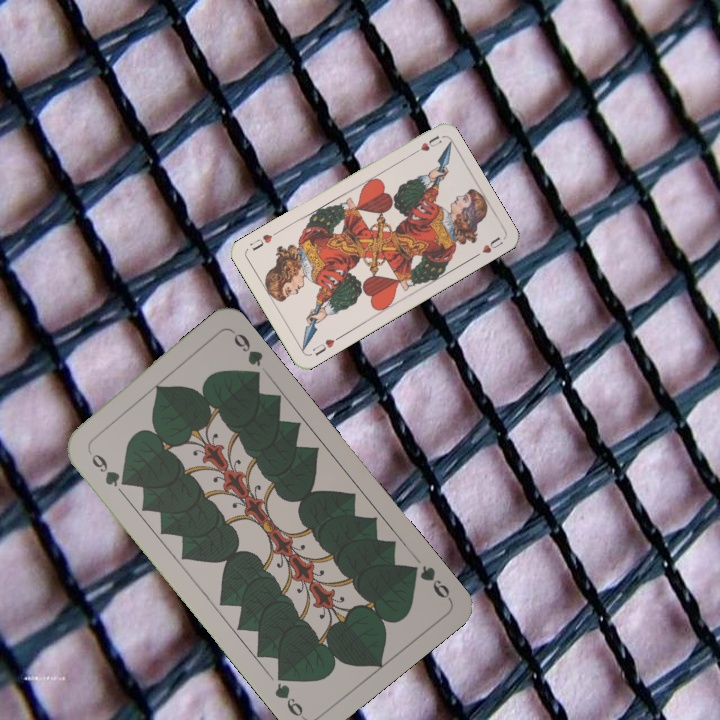G9: (403, 560, 454, 603), (83, 445, 131, 490)
HU: (406, 132, 444, 158), (308, 332, 343, 359)
